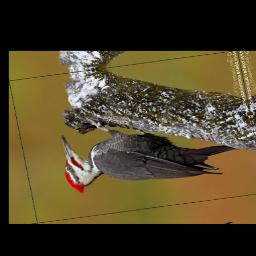Woodpecker: (54, 99, 247, 197)
